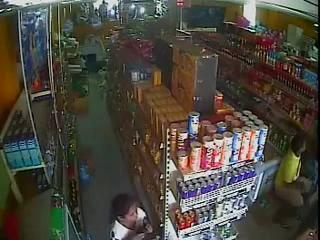Normal: (106, 192, 156, 240)
